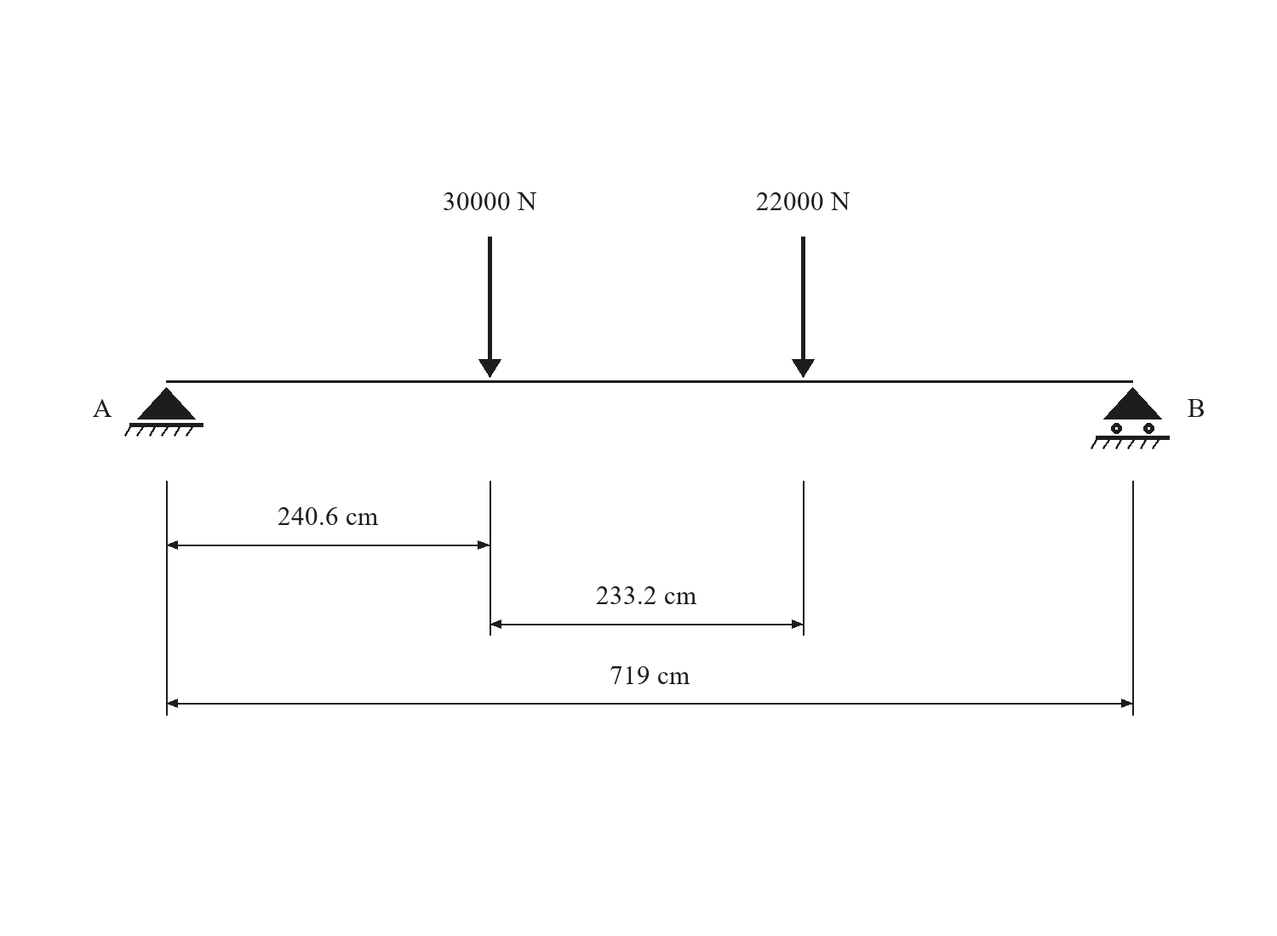pin_support: (124, 387, 203, 437)
point_load: (478, 237, 501, 378), (792, 237, 815, 378)
roller_support: (1091, 387, 1170, 449)
